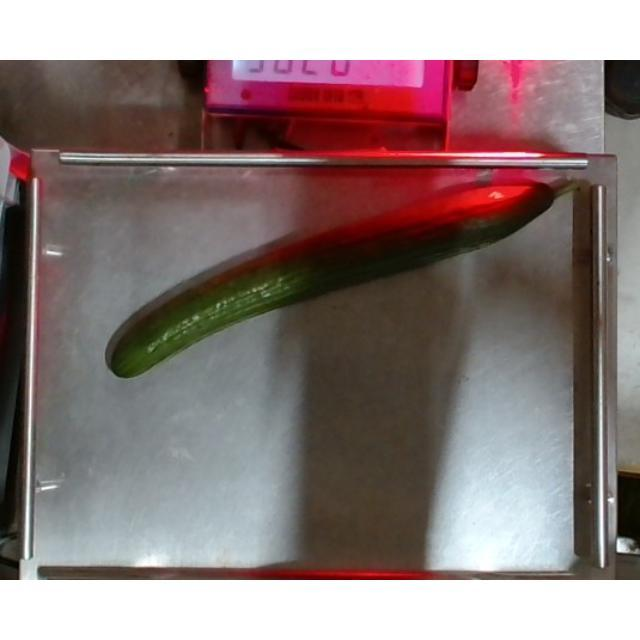cucumber: (105, 175, 591, 378)
